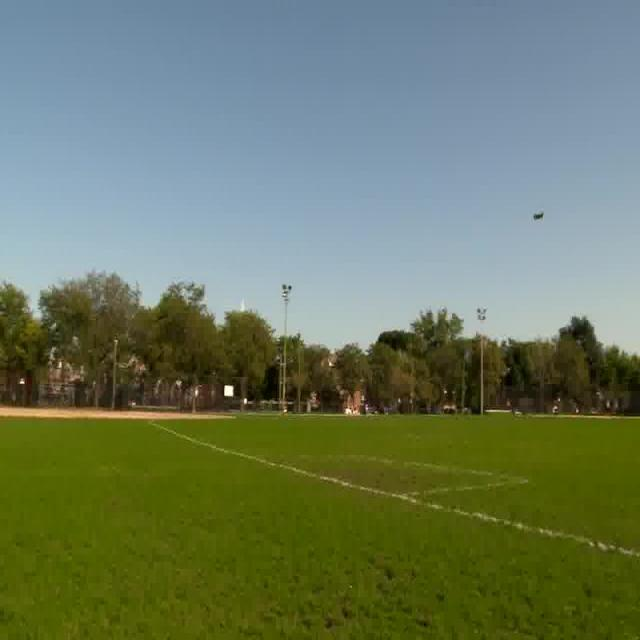drone: (532, 204, 548, 226)
